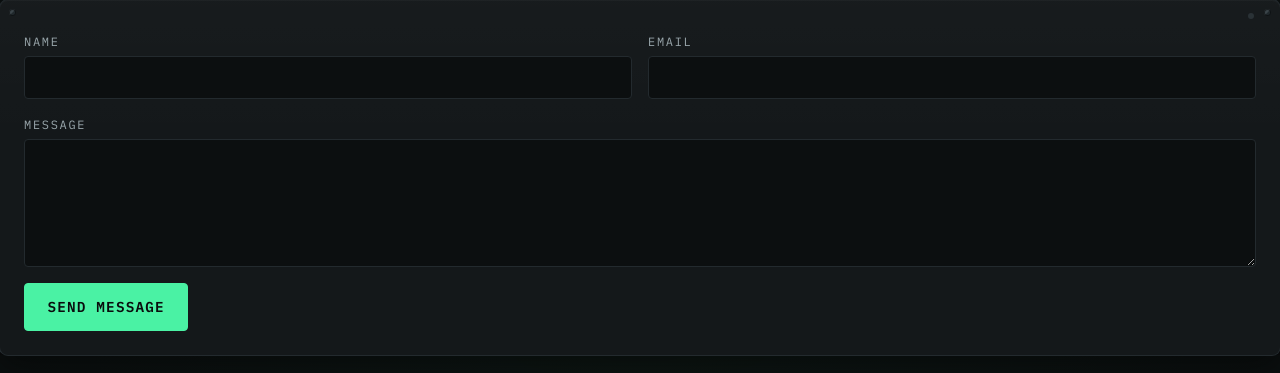
Test: ContactForm › falls back to a generic error when the network fails
Type " Ada " into the field labelled "Name" at {"x": 328, "y": 77}, box x1=24 y1=56 x2=632 y2=99
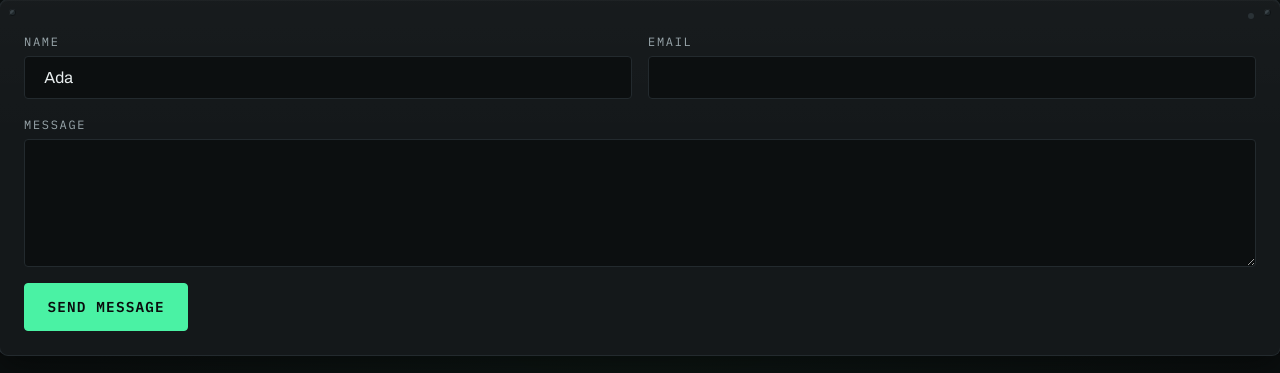
Type "ada@example.com" into the field labelled "Email" at {"x": 952, "y": 77}, box x1=648 y1=56 x2=1256 y2=99
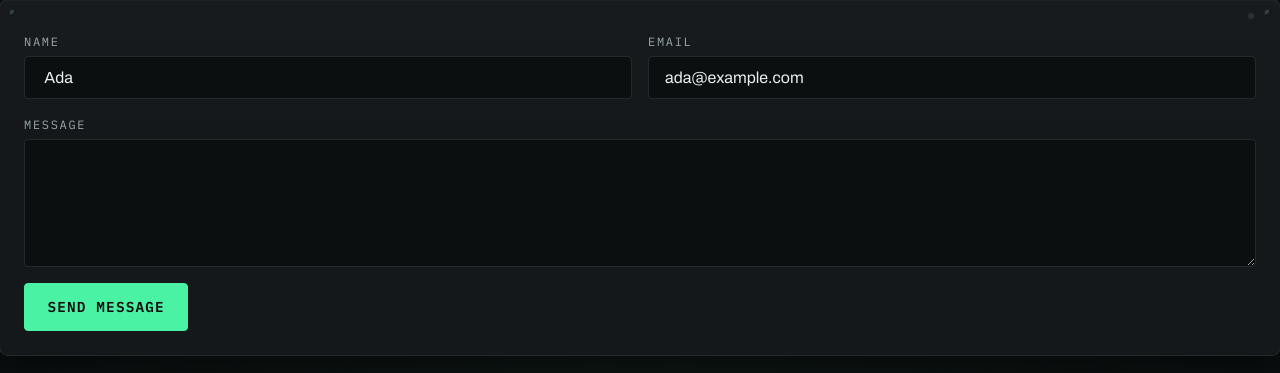
Type "Hello, lovely patches." into the text box labelled "Message" at {"x": 640, "y": 203}, box x1=24 y1=139 x2=1256 y2=267
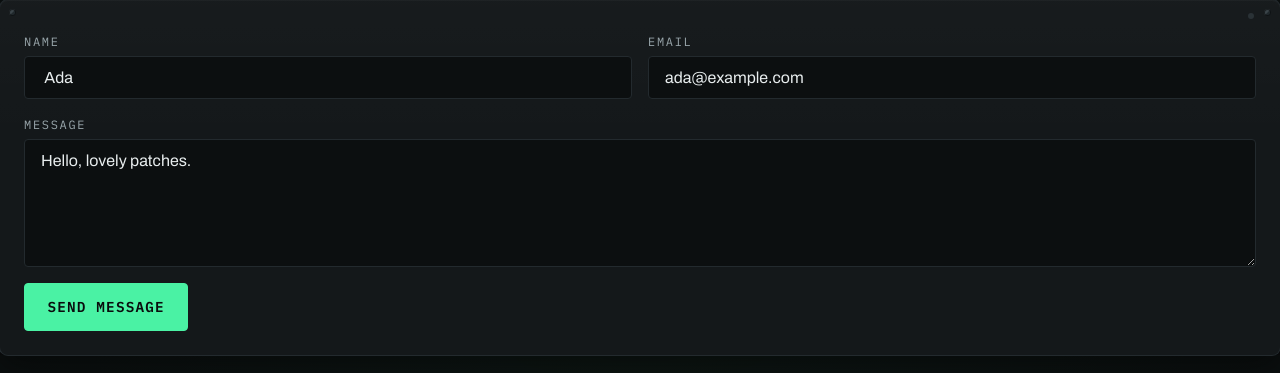
Click the button "Send message" at {"x": 106, "y": 307}, box x1=24 y1=283 x2=188 y2=331
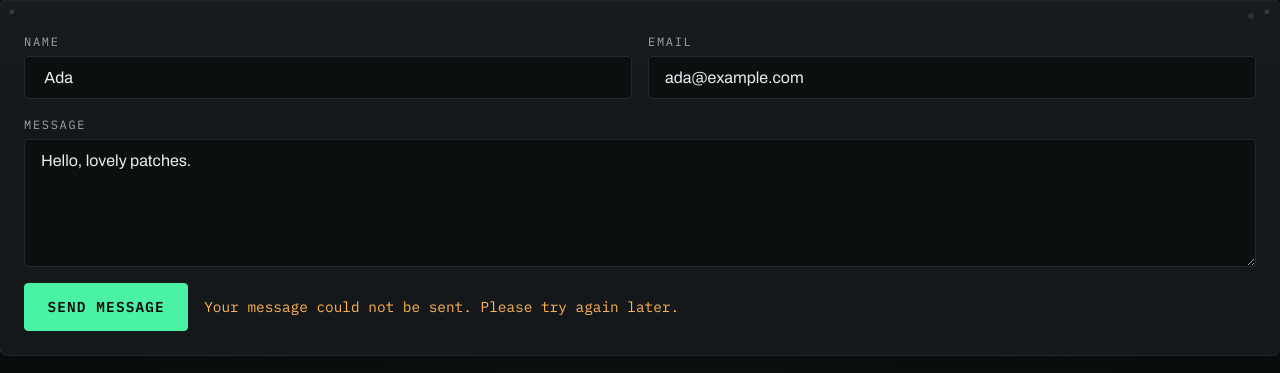
Check: the text "Your message could not be sent. Please try again later." is shown, box x1=204 y1=297 x2=679 y2=316
